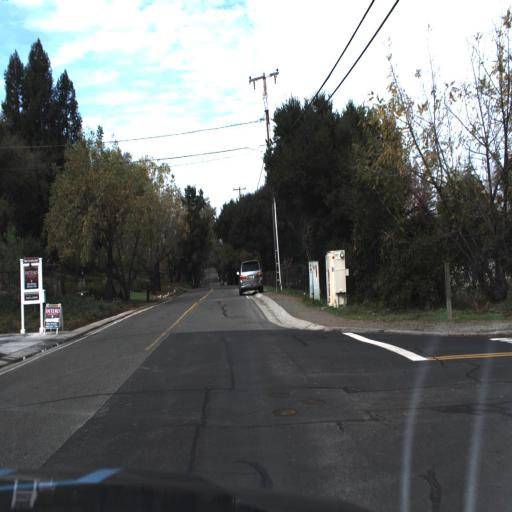car: (235, 249, 267, 298)
